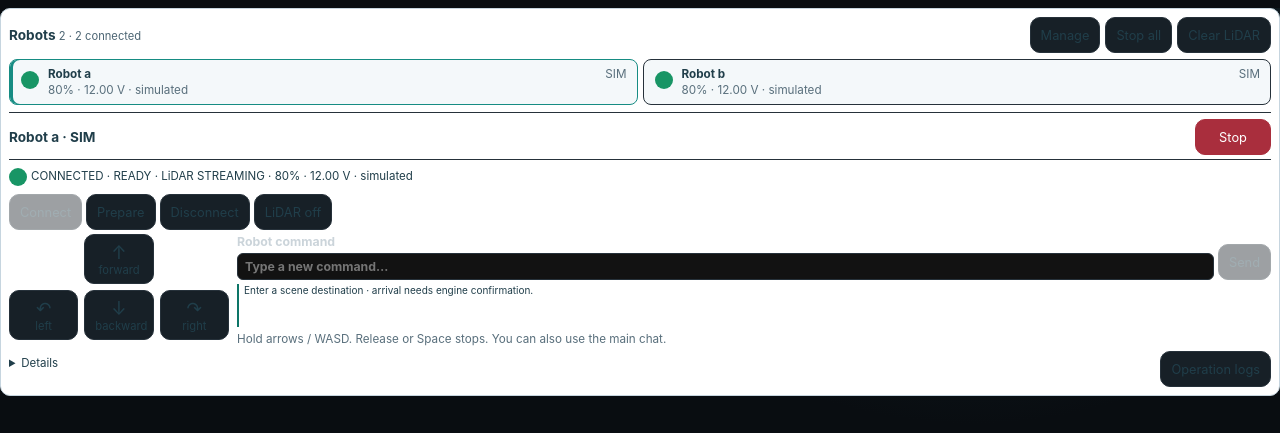
robot fleet controls (supplementary UI tests) › shows a network failure as delivery unknown instead of FAILED, so the user checks before resending
The width and height of the screenshot is (1280, 433).
Type "Go to the nearest bed" into the field labelled "Robot command" at coordinates (725, 266), box left=237, top=253, right=1214, bottom=280
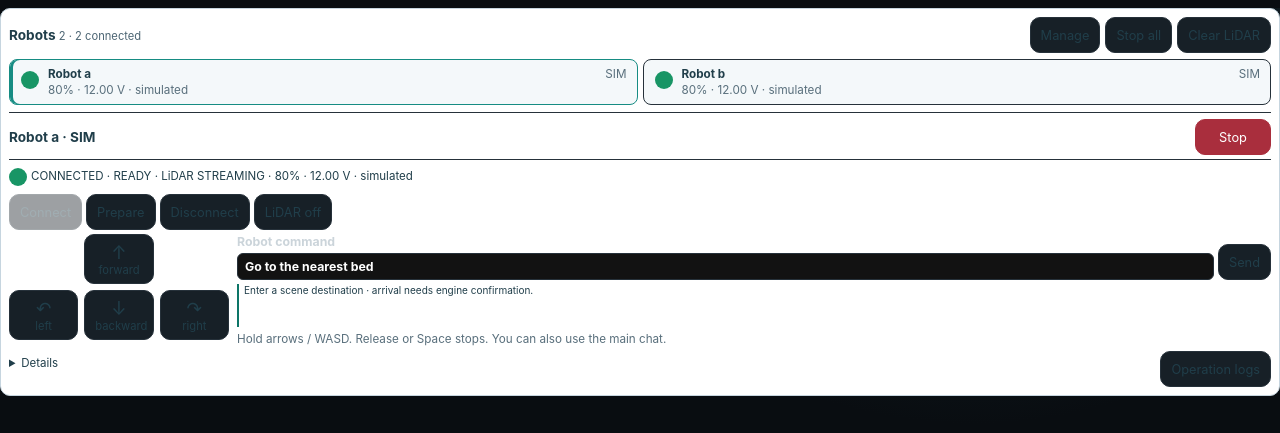
Submit the form labelled "Robot command", box left=237, top=234, right=1271, bottom=347
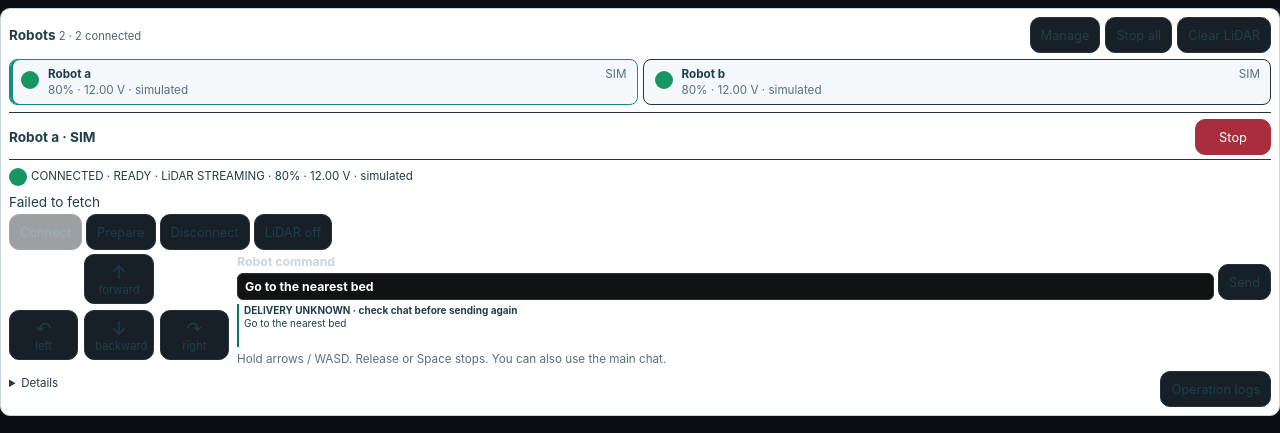
Expected: the field labelled "Robot command progress" does not show "FAILED"
Now the element named "Robot command progress" shows "DELIVERY UNKNOWN", box left=244, top=304, right=518, bottom=316
